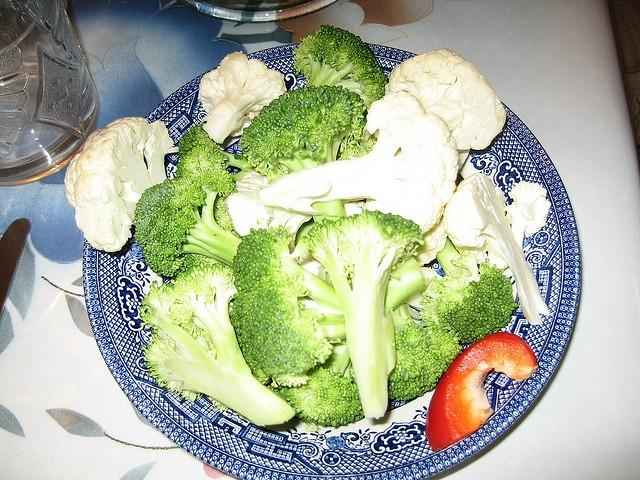bell pepper: (425, 332, 538, 452)
broccoli: (137, 255, 301, 432), (304, 210, 424, 420), (232, 225, 346, 387), (135, 144, 242, 278), (238, 85, 366, 186), (420, 236, 518, 346), (268, 340, 364, 428), (292, 25, 389, 105), (388, 300, 462, 401), (178, 123, 255, 183)
cauliflower: (258, 90, 459, 233), (443, 172, 550, 326), (62, 117, 180, 253), (382, 49, 506, 150), (198, 51, 287, 144), (225, 170, 312, 253), (504, 182, 552, 252)
